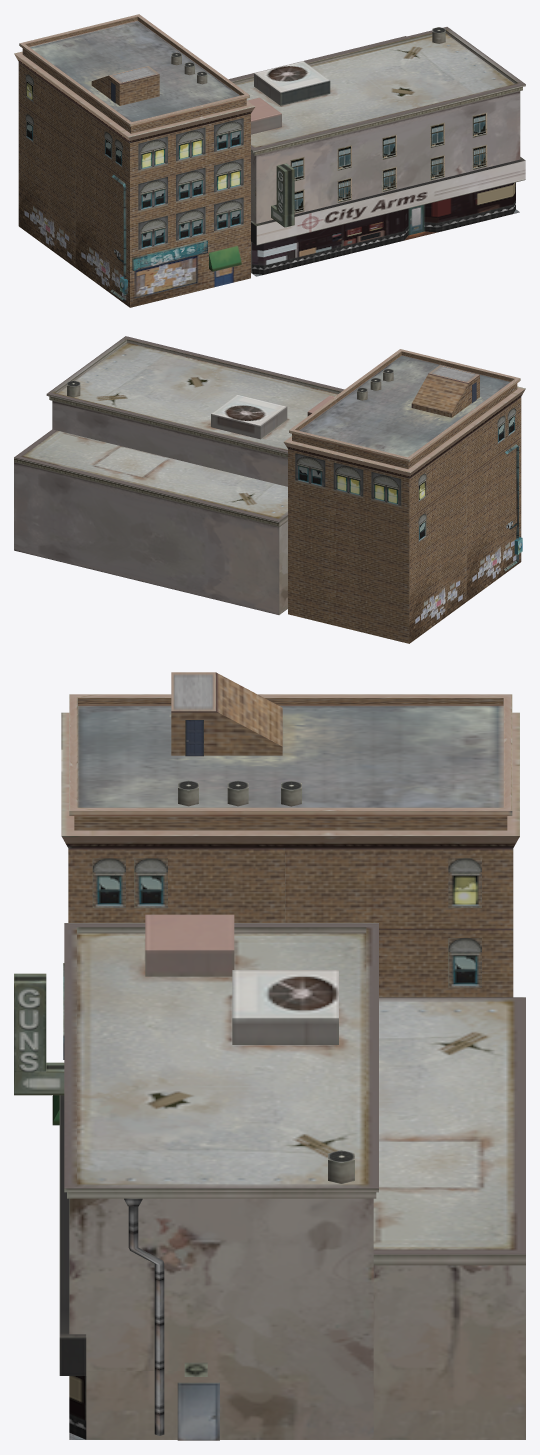
The model's file is gunshop.glb.
3 views of the same model, one above another, from view 1: azimuth 30°, elevation 25°; view 2: azimuth 150°, elevation 25°; view 3: azimuth 270°, elevation 25° (orthographic). The views are drawn at different scales.
Parts seen in each view (by area): view 1: gunshop; view 2: gunshop; view 3: gunshop.
Boxes of the visible parts, left/top/right/bottom form: gunshop: left=14, top=14, right=525, bottom=307; gunshop: left=14, top=336, right=525, bottom=643; gunshop: left=14, top=672, right=525, bottom=1440.
Bounding box in the file's own units: 36.21 × 17.49 × 20.19.
Materials: 1 (1 with a texture image).
